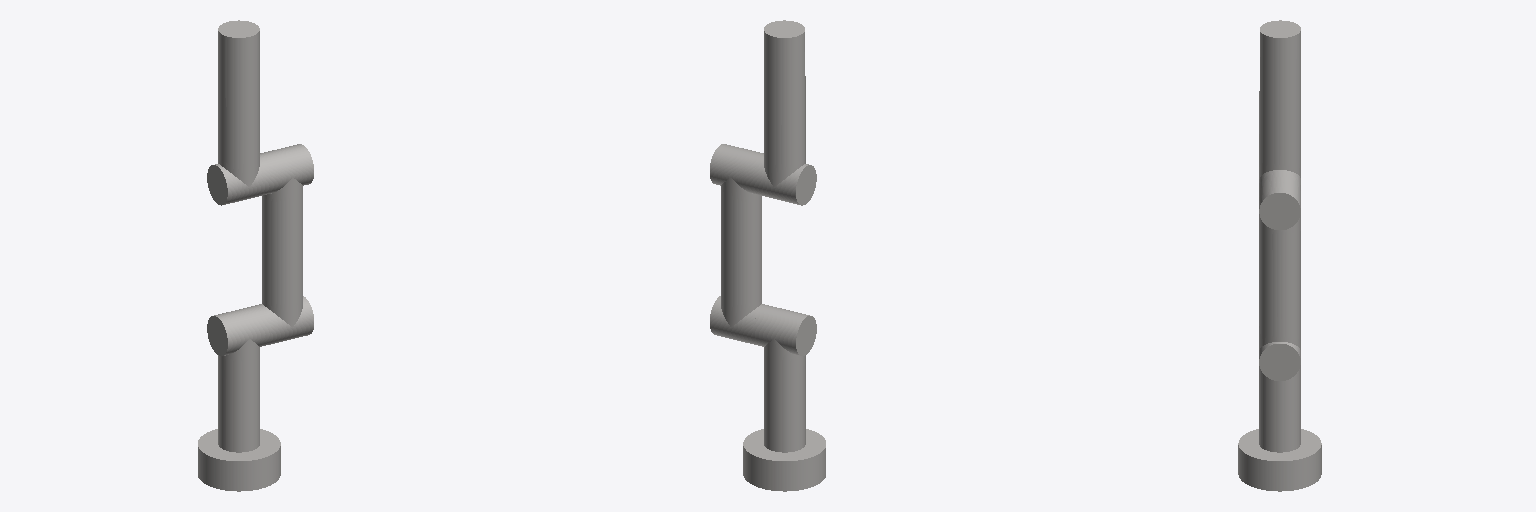
The robot description file, URDF, robot "arm":
<robot name="arm">
    <!--link name="world" /-->
    <!--joint name="base_joint" type="fixed">
        <origin xyz="0 0 0" rpy="0 0 0 " />
        <parent link="world" />
        <child link="base" />
    </joint-->
    <link name="base">
        <visual>
            <geometry>
                <mesh filename="package://arm_description/meshes/Base.dae" />
            </geometry>
        </visual>
        <collision>
            <geometry>
                <mesh filename="package://arm_description/meshes/Base.dae" />
            </geometry>
        </collision>

        <inertial>
            <mass value="2.664" />
            <inertia ixx="0.0123" iyy="0.0123" izz="0.0133" ixy="0.0" ixz="0.0" iyz="0.0" />
        </inertial>

    </link>
    <link name="link1">
        <visual>
            <geometry>
                <mesh filename="package://arm_description/meshes/Link1.dae" />
            </geometry>
        </visual>
        <collision>
            <geometry>
                <mesh filename="package://arm_description/meshes/Link1.dae" />
            </geometry>
        </collision>

        <inertial>
            <mass value="3.143" />
            <inertia ixx="0.1406" iyy="0.1401" izz="0.0045" ixy="0.0" ixz="0.0" iyz="0.0" />
        </inertial>

    </link>
    <link name="link2">
        <visual>
            <geometry>
                <mesh filename="package://arm_description/meshes/Link2.dae" />
            </geometry>
        </visual>
        <collision>
            <geometry>
                <mesh filename="package://arm_description/meshes/Link2.dae" />
            </geometry>
        </collision>

        <inertial>
            <mass value="4.621" />
            <inertia ixx="0.0069" iyy="0.2919" izz="0.2909" ixy="0.0" ixz="0.0" iyz="0.0" />
        </inertial>

    </link>
    <link name="link3">
        <visual>
            <geometry>
                <mesh filename="package://arm_description/meshes/Link3.dae" />
            </geometry>
        </visual>
        <collision>
            <geometry>
                <mesh filename="package://arm_description/meshes/Link3.dae" />
            </geometry>
        </collision>

        <inertial>
            <mass value="3.976" />
            <inertia ixx="0.0056" iyy="0.1810" izz="0.1805" ixy="0.0" ixz="0.0" iyz="0.0" />
        </inertial>

    </link>
    <link name="EE" />
    <joint name="joint1" type="revolute">
        <origin xyz="0 0 0.080" rpy="0 0 0 " />
        <limit lower="-3" upper="3" effort="30.0" velocity="6" />
        <parent link="base" />
        <child link="link1" />
        <axis xyz="0 0 1" />
        <safety_controller k_position="100.0" k_velocity="40.0" soft_lower_limit="-3" soft_upper_limit="3" />
    </joint>
    <joint name="joint2" type="revolute">
        <origin xyz="0.12 0 0.3" rpy="1.57 -1.57 1.57 " />
        <limit lower="-3" upper="3" effort="30.0" velocity="6" />
        <parent link="link1" />
        <child link="link2" />
        <axis xyz="0 0 1" />
        <safety_controller k_position="100.0" k_velocity="40.0" soft_lower_limit="-3" soft_upper_limit="3" />
    </joint>
    <joint name="joint3" type="revolute">
        <origin xyz="0.4 0 -.12" rpy="0 0 0 " />
        <limit lower="-3" upper="3" effort="30.0" velocity="6" />
        <parent link="link2" />
        <child link="link3" />
        <axis xyz="0 0 1" />
        <safety_controller k_position="100.0" k_velocity="40.0" soft_lower_limit="-3" soft_upper_limit="3" />
    </joint>
    <joint name="joint_EE" type="fixed">
        <origin xyz="0.4 0 0" rpy="0 0 0 " />
        <parent link="link3" />
        <child link="EE" />
    </joint>

    <transmission name="trans_joint1">
        <type>transmission_interface/SimpleTransmission</type>
        <joint name="joint1">
            <hardwareInterface>hardware_interface/EffortJointInterface</hardwareInterface>
        </joint>
        <actuator name="joint1_motor">
            <hardwareInterface>hardware_interface/EffortJointInterface</hardwareInterface>
            <mechanicalReduction>1</mechanicalReduction>
        </actuator>
    </transmission>
    <transmission name="trans_joint2">
        <type>transmission_interface/SimpleTransmission</type>
        <joint name="joint2">
            <hardwareInterface>hardware_interface/EffortJointInterface</hardwareInterface>
        </joint>
        <actuator name="joint2_motor">
            <hardwareInterface>hardware_interface/EffortJointInterface</hardwareInterface>
            <mechanicalReduction>1</mechanicalReduction>
        </actuator>
    </transmission>
    <transmission name="trans_joint3">
        <type>transmission_interface/SimpleTransmission</type>
        <joint name="joint3">
            <hardwareInterface>hardware_interface/EffortJointInterface</hardwareInterface>
        </joint>
        <actuator name="joint3_motor">
            <hardwareInterface>hardware_interface/EffortJointInterface</hardwareInterface>
            <mechanicalReduction>1</mechanicalReduction>
        </actuator>
    </transmission>
    <gazebo>
        <plugin name="gazebo_ros_control" filename="libgazebo_ros_control.so">
            <robotNamespace>/arm</robotNamespace>
        </plugin>
    </gazebo>
</robot>

--- Render facts (derived) ---
3 views of the same robot in one strip: view 1: azimuth 30°, elevation 25°; view 2: azimuth 150°, elevation 25°; view 3: azimuth 270°, elevation 25° (orthographic).
Robot: arm — 5 links, 4 joints (3 revolute, 1 fixed); root link base; default pose: all joints at 0.
Links seen in each view (by area): view 1: link3, link2, link1, base; view 2: link3, link2, link1, base; view 3: link2, link3, base, link1.
Link boxes in pixels (left/top/right/bottom): link3: left=207, top=20, right=270, bottom=205; link2: left=259, top=144, right=313, bottom=344; link1: left=207, top=305, right=270, bottom=452; base: left=198, top=429, right=280, bottom=491; link3: left=753, top=20, right=816, bottom=205; link2: left=710, top=144, right=764, bottom=344; link1: left=753, top=305, right=816, bottom=452; base: left=743, top=429, right=825, bottom=491; link2: left=1259, top=172, right=1300, bottom=380; link3: left=1259, top=20, right=1300, bottom=188; base: left=1238, top=429, right=1321, bottom=491; link1: left=1259, top=365, right=1300, bottom=452.
Size in the robot's own frame: 0.2801 by 0.2 by 1.18 metres.
4 mesh visuals loaded from 4 distinct referenced files (4 Collada DAE).